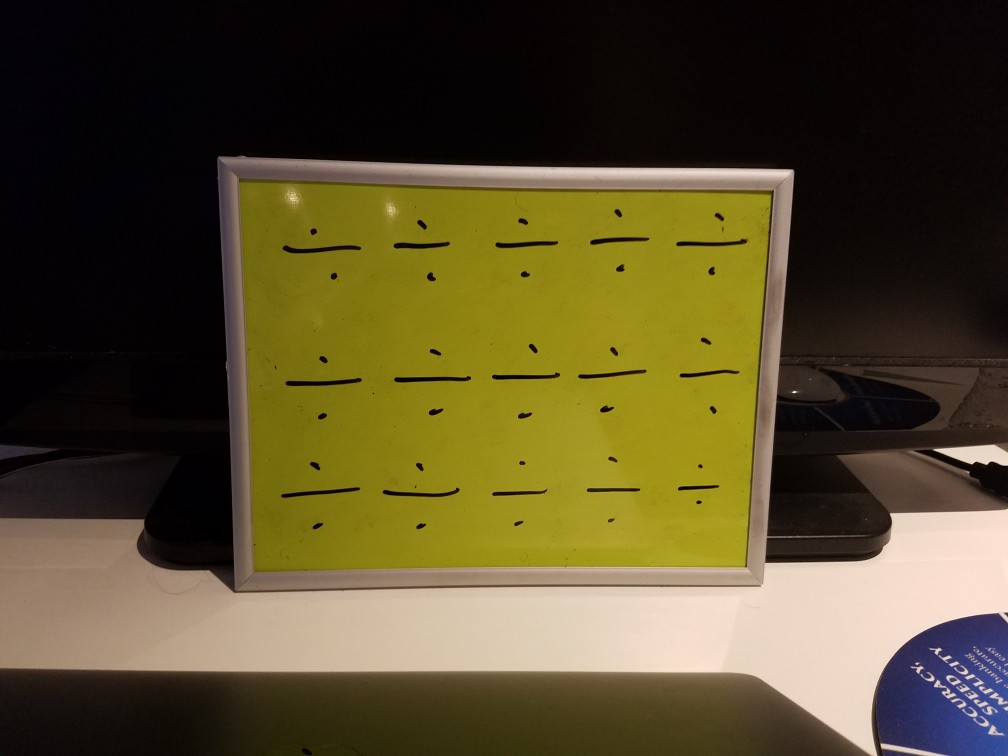div: (369, 451, 471, 541), (270, 446, 364, 540), (479, 329, 564, 428), (568, 322, 646, 429), (665, 315, 744, 420), (482, 205, 574, 292), (281, 329, 362, 424), (388, 336, 473, 426), (275, 209, 364, 294), (573, 448, 652, 542), (480, 453, 562, 538), (671, 200, 750, 281), (388, 205, 458, 287), (662, 448, 732, 529), (586, 197, 656, 276)
